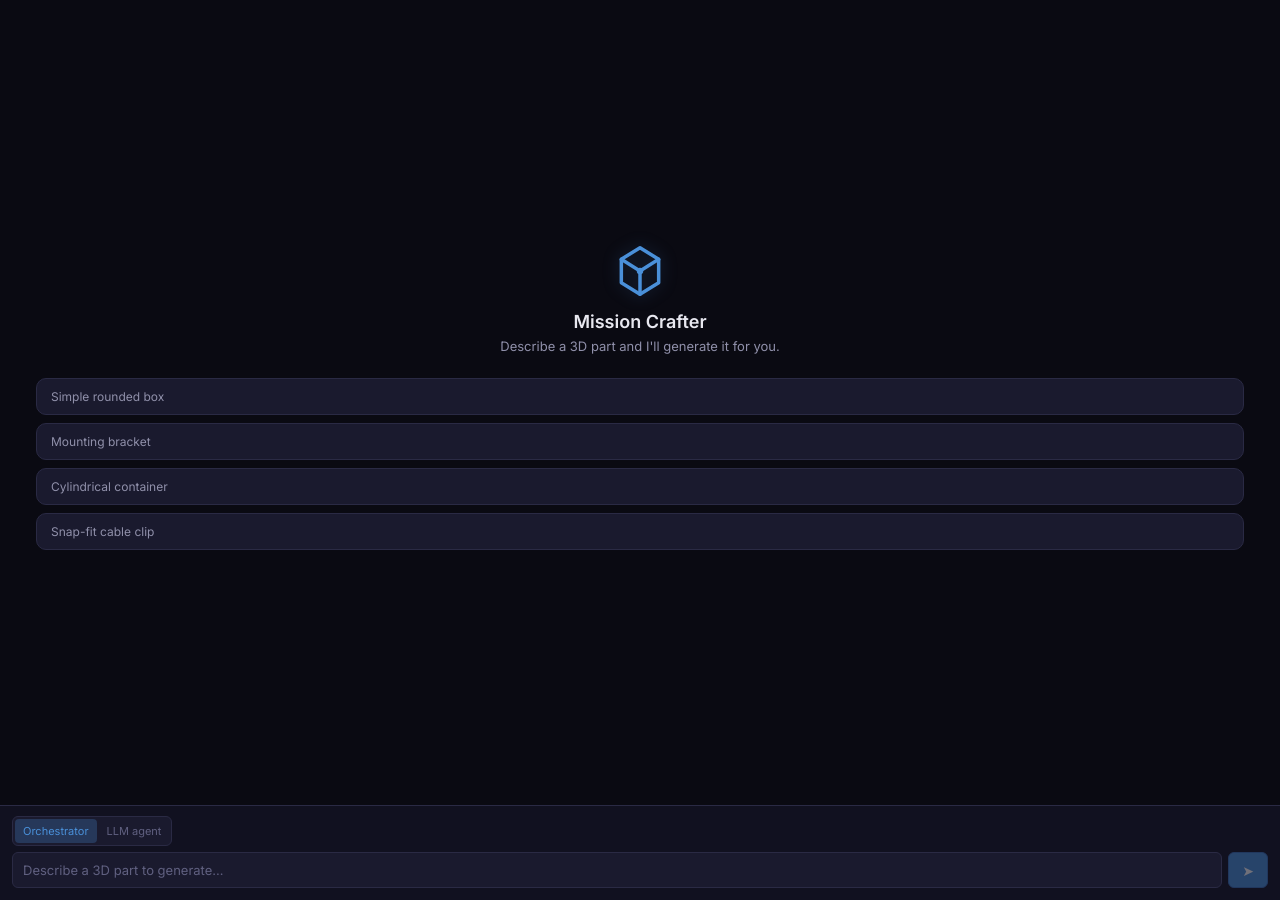
Test: Chat component › send button enables when input has text
Type "Make a cube" into the text box with placeholder "Describe a 3D part to generate…" at (617, 870), box top-left (12, 852), bottom-right (1222, 888)
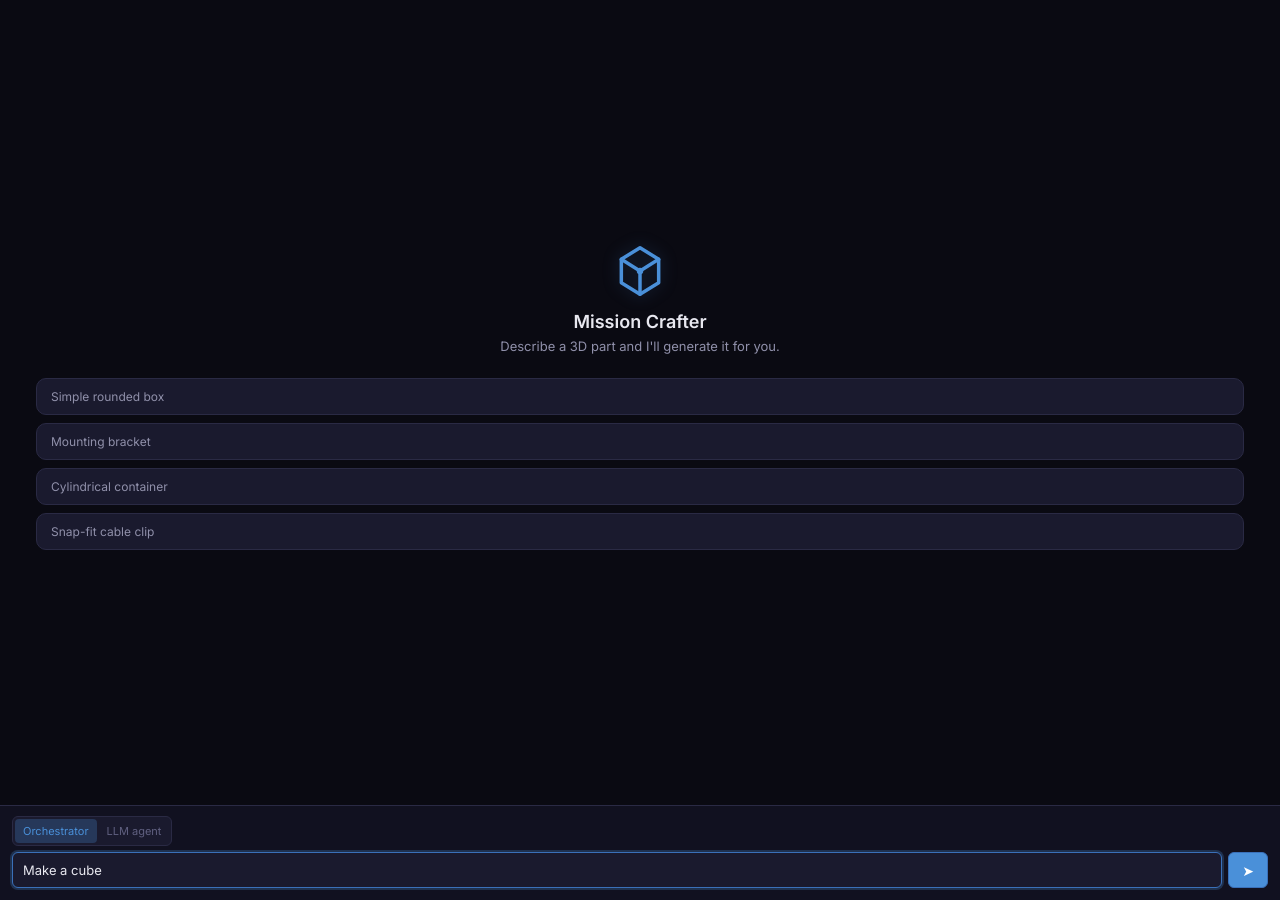
expect the button "➤" is enabled: met, box top-left (1228, 852), bottom-right (1268, 888)
